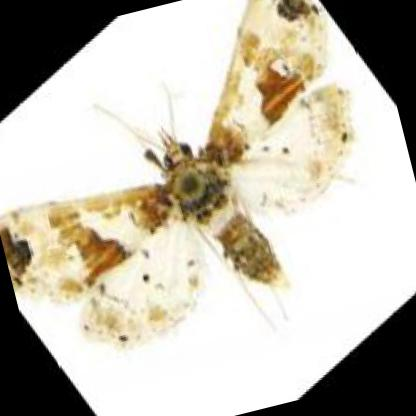leucinodes: (0, 0, 353, 348)
